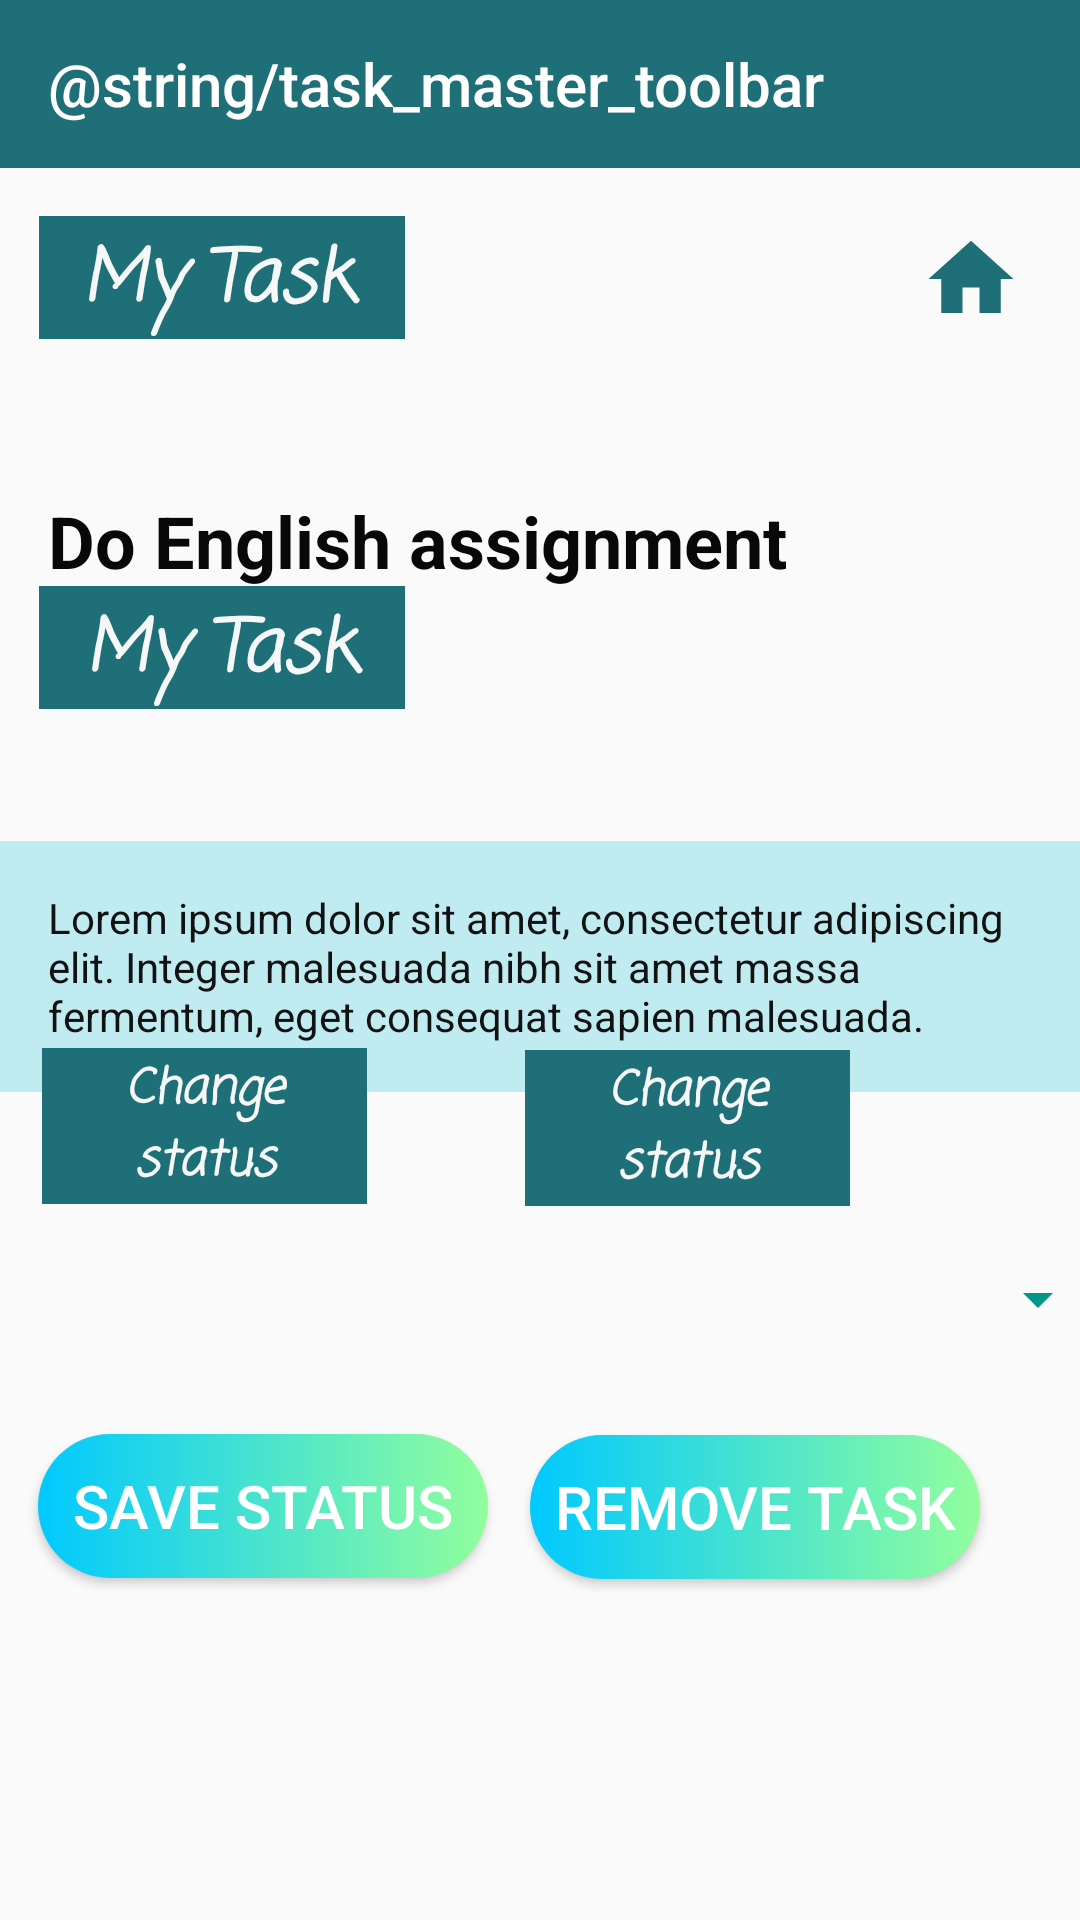

Icons on this 1080 × 1920 Android screen, each with its box as {"left": x1, "top": y1, "right": x2, "bottom": y2}:
home: {"left": 929, "top": 241, "right": 1013, "bottom": 313}
